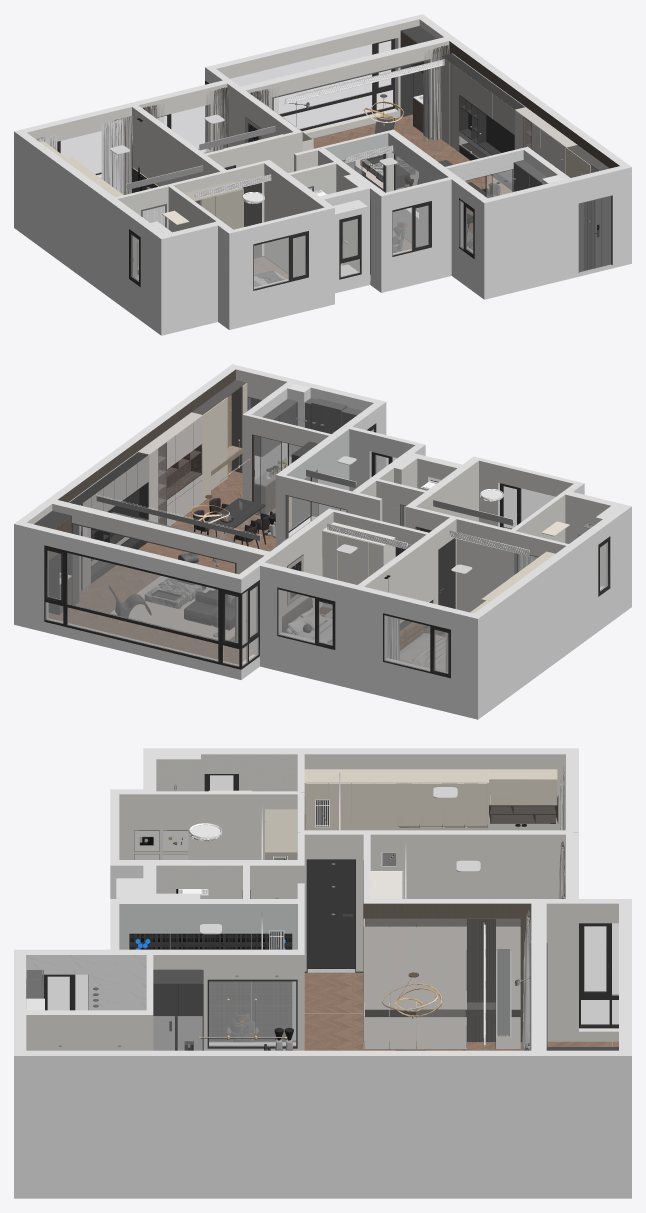
Rendered from floordata0.glb.
The picture shows the model from 3 angles, top to bottom: view 1: azimuth 30°, elevation 25°; view 2: azimuth 150°, elevation 25°; view 3: azimuth 270°, elevation 25°; orthographic projection. The views are drawn at different scales.
Visible parts, largest first — view 1: MergedMesh_-1364518228, MergedMesh_399976056, MergedMesh_1455261499, MergedMesh_36553148, SM_平开窗玻璃中上 (×5), SM_组合柜背景墙, MergedMesh_1829892710, MergedMesh_-497881661, MergedMesh_-1779311776, MergedMesh_914080995, SM_平开窗开扇左 (×5), MergedMesh_13213961 (+38 smaller); view 2: MergedMesh_1455261499, SM_平开窗玻璃中上 (×4), MergedMesh_-774404088, MergedMesh_914080995, MergedMesh_-1779311776, MergedMesh_1329481414, MergedMesh_-497881661, SM_平开窗开扇左 (×6), SM_酒柜_StaticMeshComponent0, MergedMesh_399976056, MergedMesh_-1335353447, SM_组合柜背景墙 (+39 smaller); view 3: MergedMesh_2094488598, SM_装饰柜_StaticMeshComponent0, SM_带书桌衣柜_StaticMeshComponent0, MergedMesh_-1779311776, MergedMesh_-774404088, MergedMesh_-497881661, MergedMesh_858328556, MergedMesh_-500245368, SM_电竞房背景墙, SM_单块_单玻璃_260cm, MergedMesh_13213961, MergedMesh_-789699988 (+27 smaller).
Part boxes in pixels (<box>): MergedMesh_-1364518228: <box>451,179,571,296</box>; MergedMesh_399976056: <box>108,200,217,332</box>; MergedMesh_1455261499: <box>14,131,107,292</box>; MergedMesh_36553148: <box>218,208,334,326</box>; SM_平开窗玻璃中上 (×5): <box>60,43,412,290</box>; SM_组合柜背景墙: <box>441,53,525,191</box>; MergedMesh_1829892710: <box>366,179,451,289</box>; MergedMesh_-497881661: <box>199,37,631,181</box>; MergedMesh_-1779311776: <box>207,41,449,191</box>; MergedMesh_914080995: <box>27,107,219,186</box>; SM_平开窗开扇左 (×5): <box>129,201,474,286</box>; MergedMesh_13213961: <box>216,19,443,138</box>; MergedMesh_1455261499: <box>356,547,576,715</box>; SM_平开窗玻璃中上 (×4): <box>64,488,555,673</box>; MergedMesh_-774404088: <box>14,524,259,679</box>; MergedMesh_914080995: <box>364,519,565,659</box>; MergedMesh_-1779311776: <box>236,369,449,546</box>; MergedMesh_1329481414: <box>260,566,356,686</box>; MergedMesh_-497881661: <box>47,364,455,555</box>; SM_平开窗开扇左 (×6): <box>221,483,610,678</box>; SM_酒柜_StaticMeshComponent0: <box>138,412,202,525</box>; MergedMesh_399976056: <box>576,506,631,643</box>; MergedMesh_-1335353447: <box>75,470,291,641</box>; SM_组合柜背景墙: <box>68,451,149,591</box>; MergedMesh_2094488598: <box>14,1056,538,1193</box>; SM_装饰柜_StaticMeshComponent0: <box>363,918,520,1049</box>; SM_带书桌衣柜_StaticMeshComponent0: <box>304,769,558,830</box>; MergedMesh_-1779311776: <box>26,834,363,1050</box>; MergedMesh_-774404088: <box>539,1056,631,1198</box>; MergedMesh_-497881661: <box>14,830,546,1055</box>; MergedMesh_858328556: <box>370,834,565,898</box>; MergedMesh_-500245368: <box>119,794,297,859</box>; SM_电竞房背景墙: <box>129,933,292,1041</box>; SM_单块_单玻璃_260cm: <box>207,979,297,1048</box>; MergedMesh_13213961: <box>546,903,618,1041</box>; MergedMesh_-789699988: <box>119,904,297,1040</box>.
Size of the model in its own units: 1341 by 290 by 1139.
Materials: 262 (102 with a texture image).
